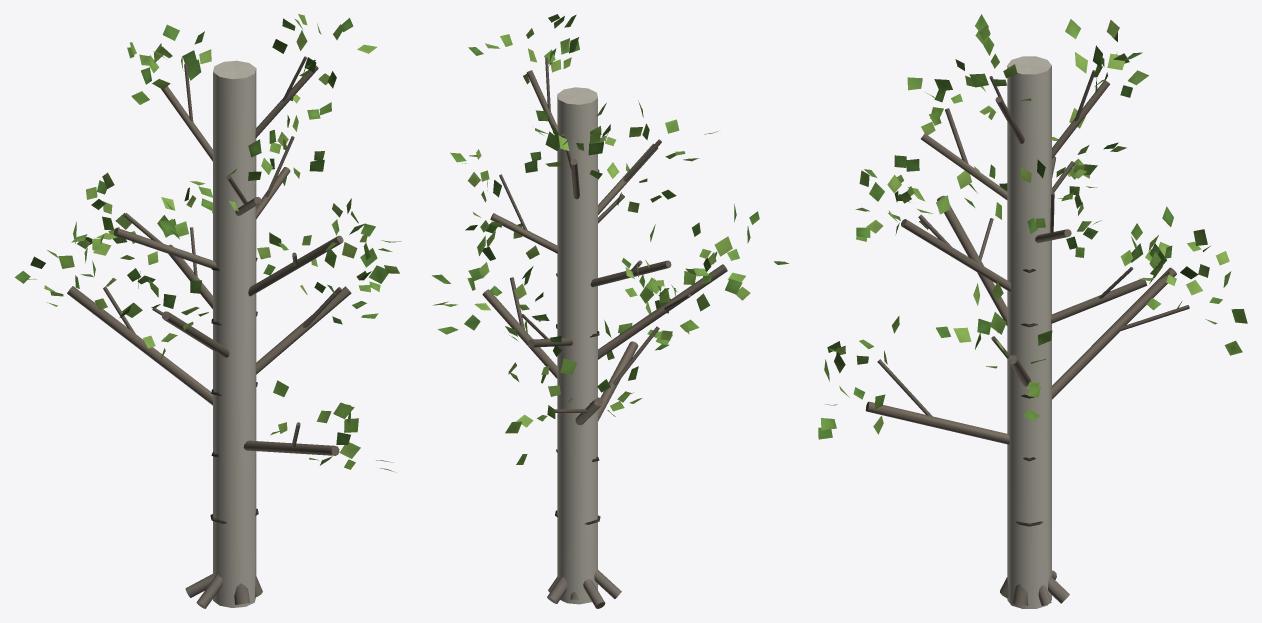
The model's file is mature-lod1.glb.
The picture shows the model from 3 angles, left to right: view 1: azimuth 30°, elevation 25°; view 2: azimuth 150°, elevation 25°; view 3: azimuth 270°, elevation 25°; orthographic projection. The views are drawn at different scales.
Visible parts, largest first — view 1: birch-bark-branches-buried-roots-ground-blend, birch-bifurcated-twigs-and-leaves; view 2: birch-bark-branches-buried-roots-ground-blend, birch-bifurcated-twigs-and-leaves; view 3: birch-bark-branches-buried-roots-ground-blend, birch-bifurcated-twigs-and-leaves.
Boxes of the visible parts, <box> form: birch-bark-branches-buried-roots-ground-blend: <box>67,56,351,608</box>; birch-bifurcated-twigs-and-leaves: <box>14,14,401,472</box>; birch-bark-branches-buried-roots-ground-blend: <box>482,57,727,608</box>; birch-bifurcated-twigs-and-leaves: <box>432,14,788,464</box>; birch-bark-branches-buried-roots-ground-blend: <box>865,56,1189,608</box>; birch-bifurcated-twigs-and-leaves: <box>818,14,1247,439</box>.
Bounding box in the file's own units: 12.16 × 22.48 × 14.63.
